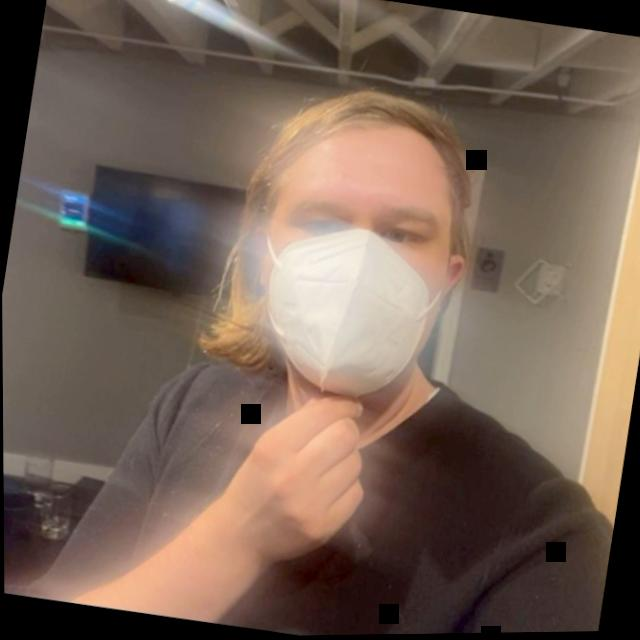Mask: (210, 75, 517, 441)
